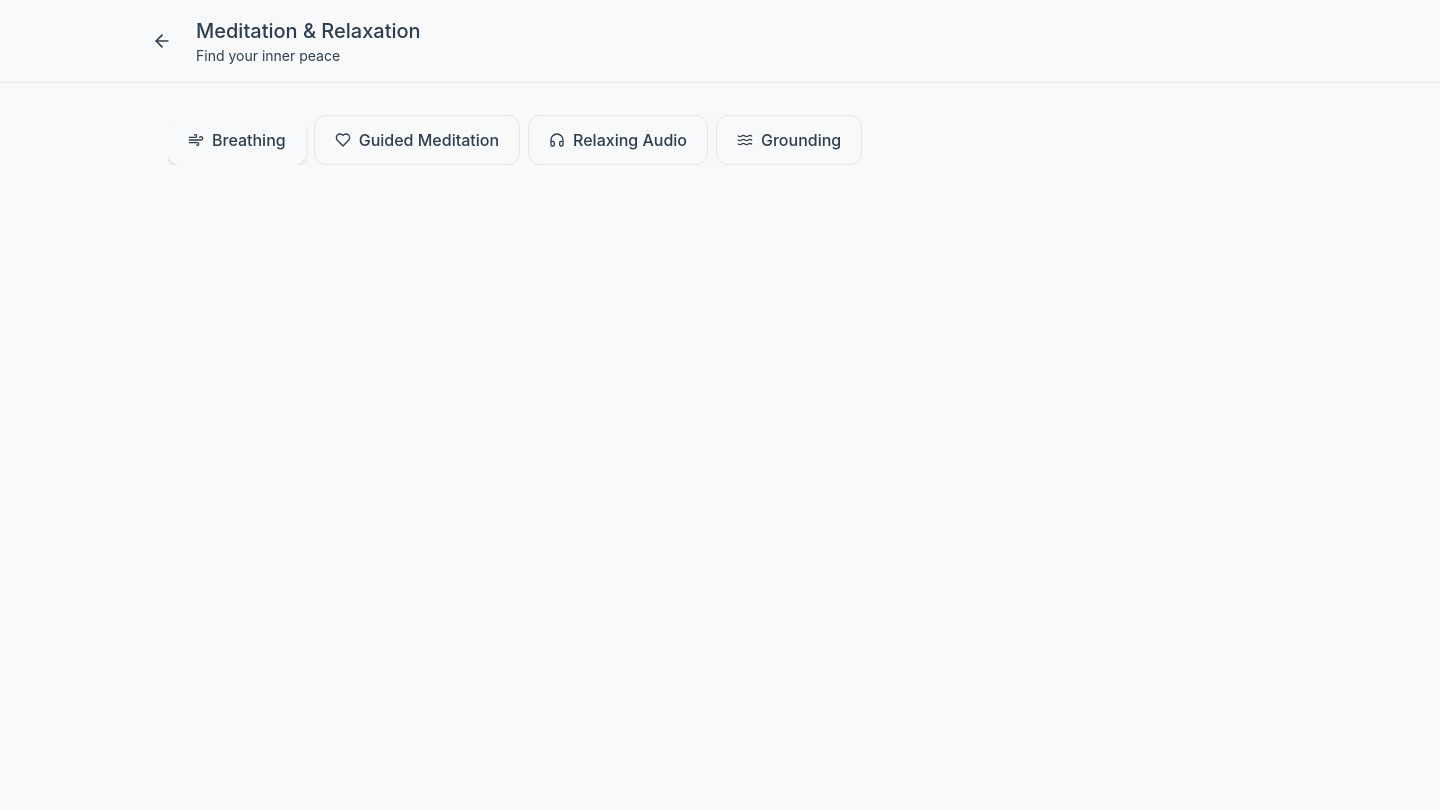
Test: MeditationPage › Guided Meditation › should render all meditation sessions
Click the button "Guided Meditation": (417, 140) [314,115,520,165]
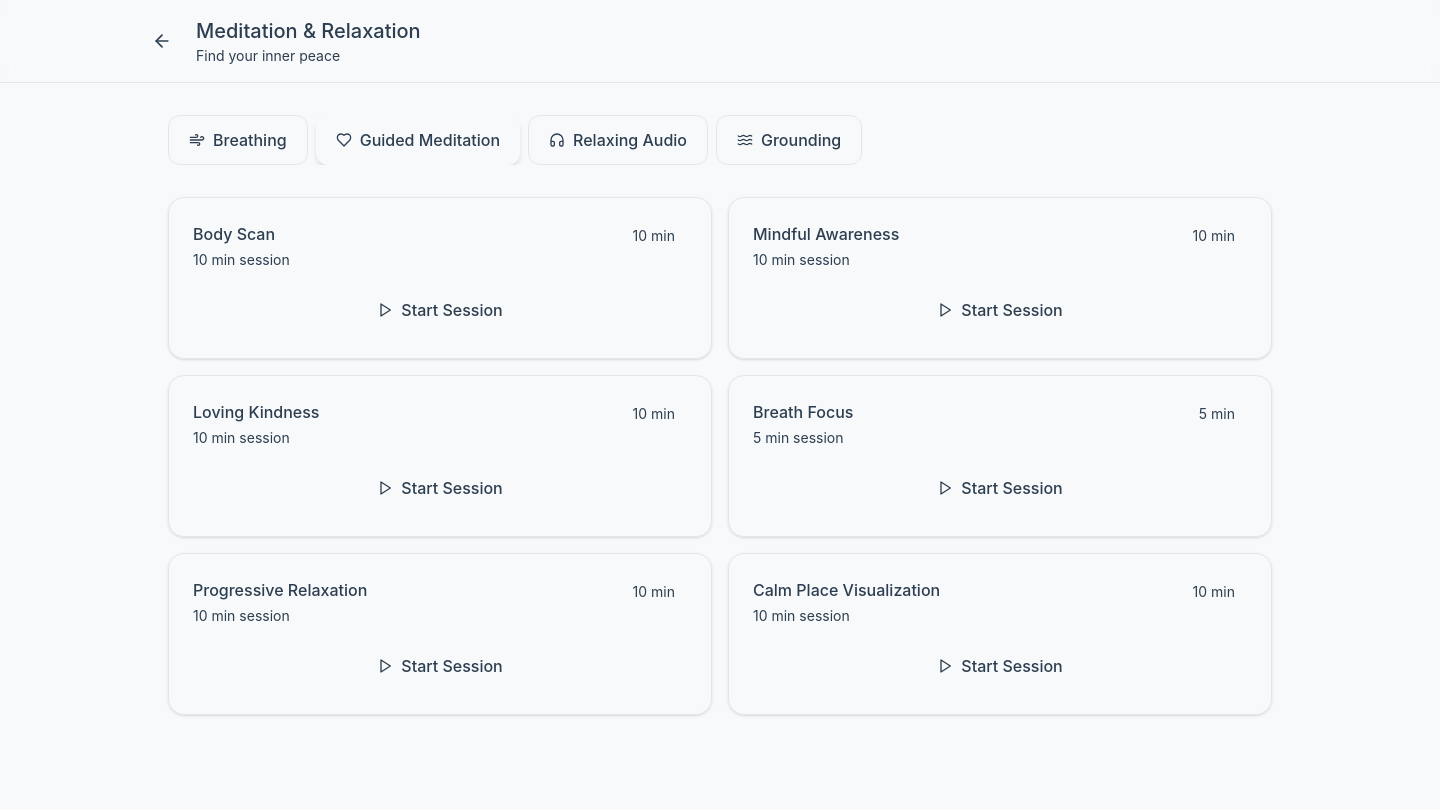
Check: the heading "Body Scan" is shown, box [193,224,275,244]
Check: the heading "Mindful Awareness" is shown, box [753,222,899,246]
Check: the heading "Loving Kindness" is shown, box [193,400,320,424]
